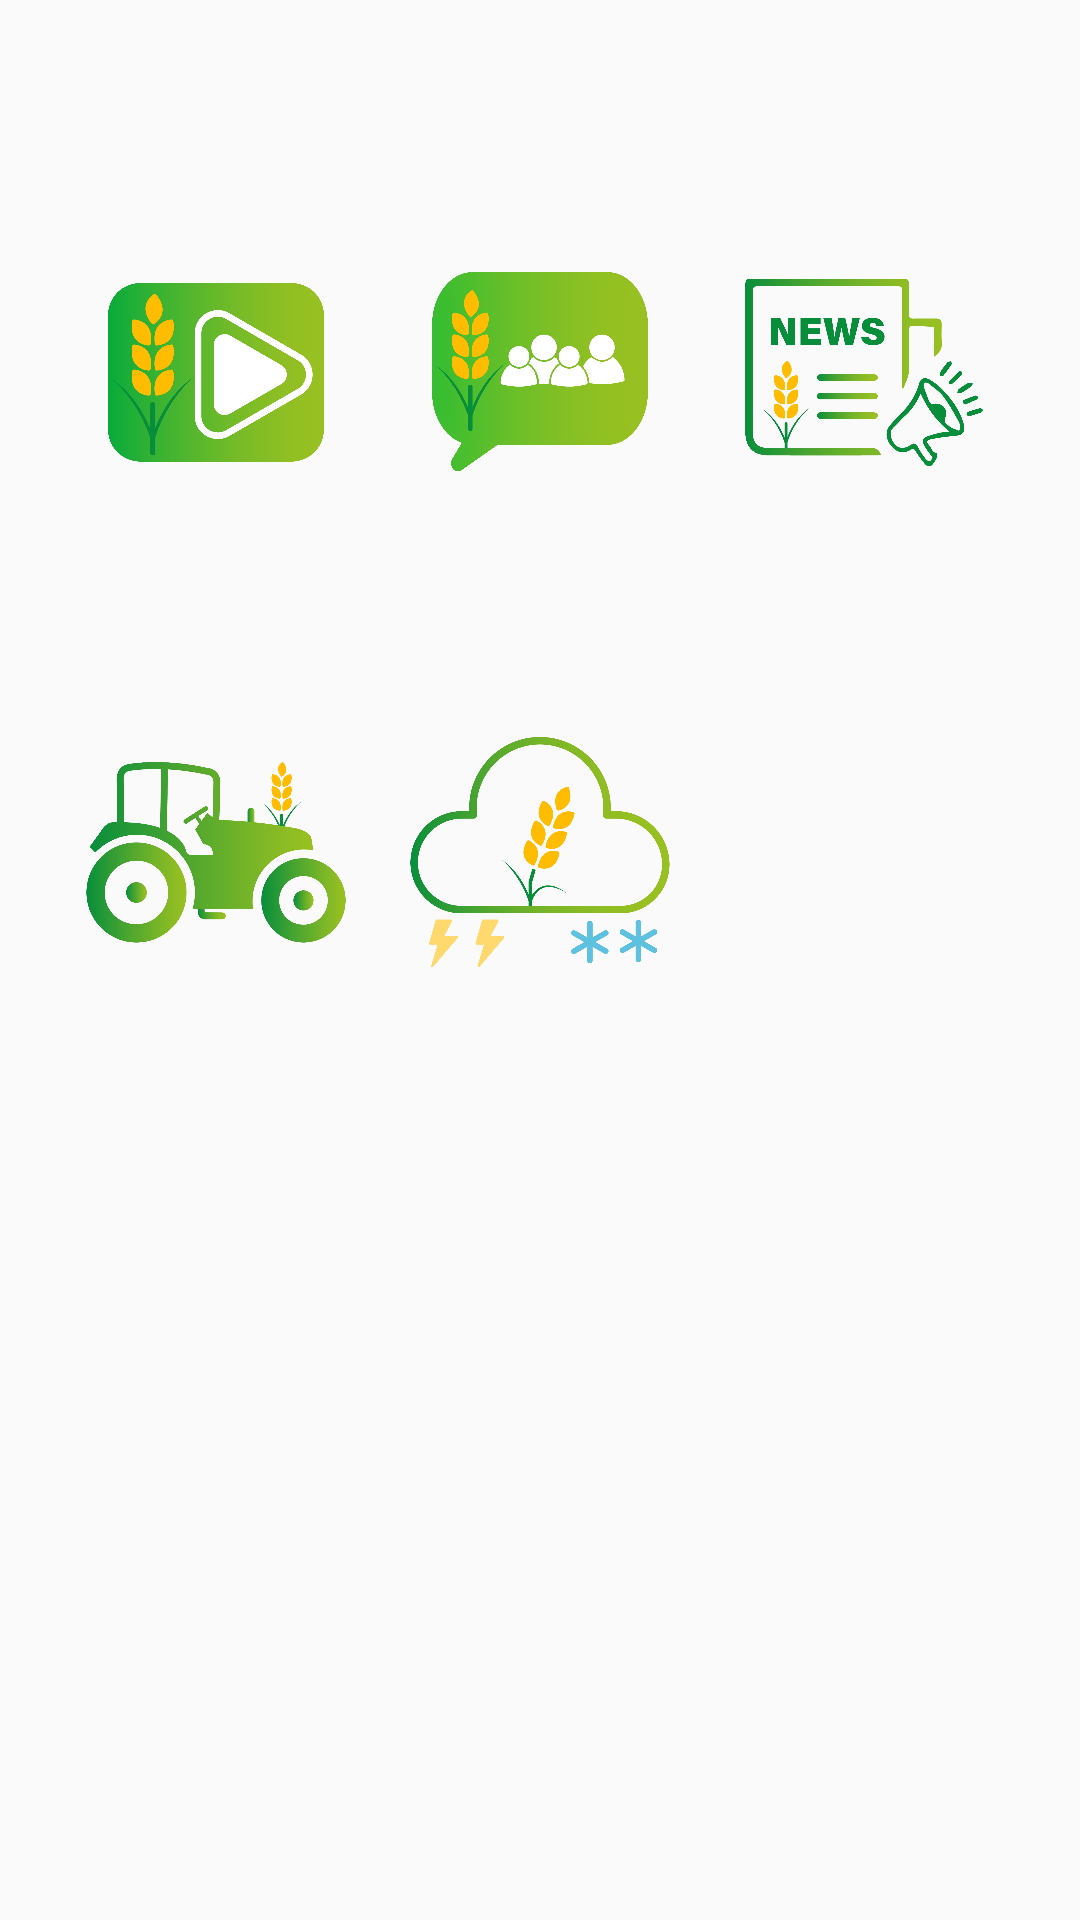

Icons on this 1080 x 1920 Android screen, each with the point to tap as [x,y]:
instant chat: [540,371]
instant video: [216,372]
